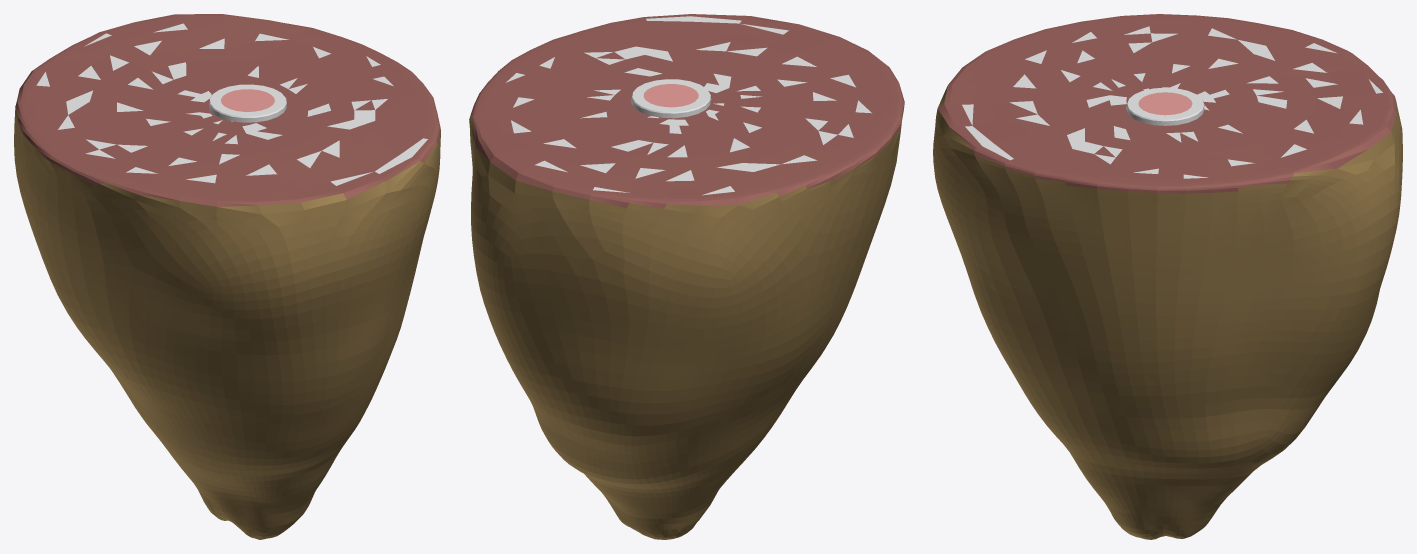
The model's file is nobone.fbx.
3 views of the same model, side by side, from view 1: azimuth 30°, elevation 25°; view 2: azimuth 150°, elevation 25°; view 3: azimuth 270°, elevation 25° (orthographic). The views are drawn at different scales.
Visible parts, largest first — view 1: pSphere3; view 2: pSphere3; view 3: pSphere3.
Boxes of the visible parts, x1,y1,x2,y2 form: pSphere3: (14, 14, 440, 539); pSphere3: (469, 14, 904, 539); pSphere3: (933, 14, 1402, 539).
Size of the model in its own units: 59.21 by 67.39 by 66.9.
